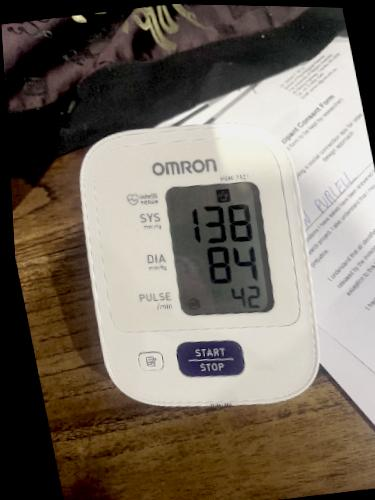bpm: (162, 170, 277, 327)
